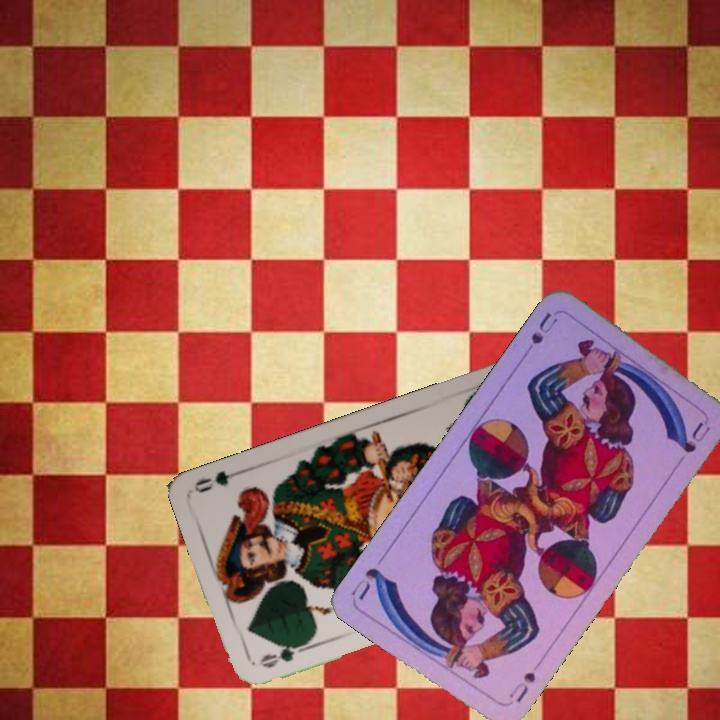GO: (255, 640, 311, 671)
SU: (520, 308, 561, 362), (504, 656, 545, 705)
